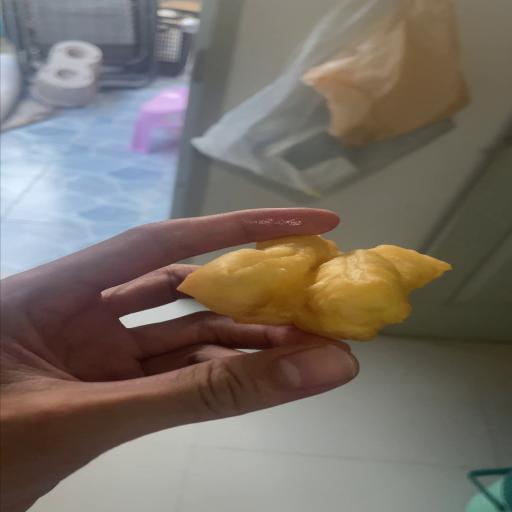street_golden_good: (177, 235, 450, 341)
